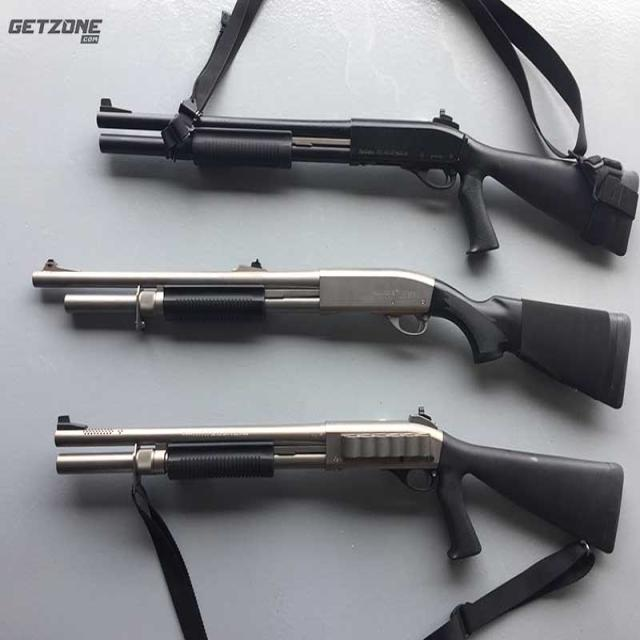ShotGun: (31, 262, 633, 411), (54, 410, 626, 562), (98, 99, 640, 258)
